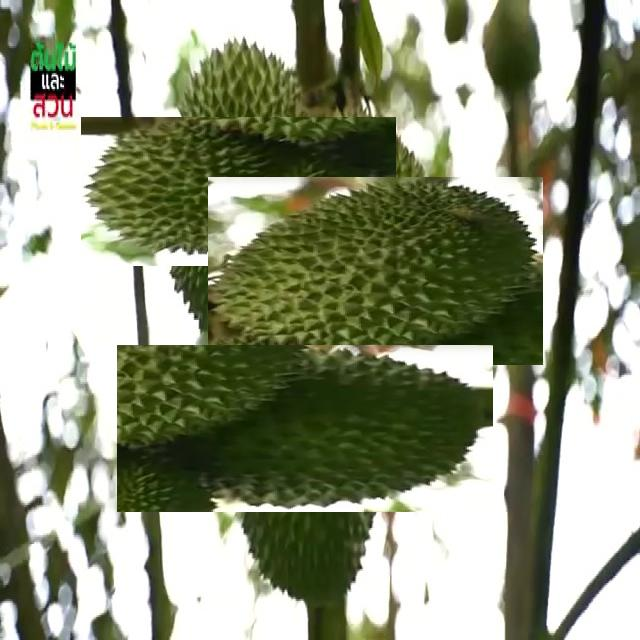durian: (169, 292, 441, 564), (244, 140, 507, 401), (122, 75, 356, 308)
